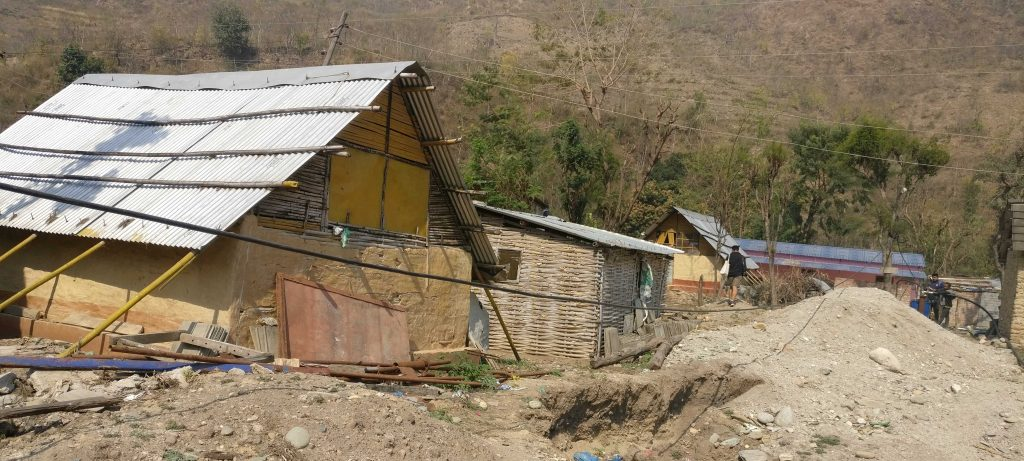human: (719, 243, 751, 312), (921, 271, 943, 319)
